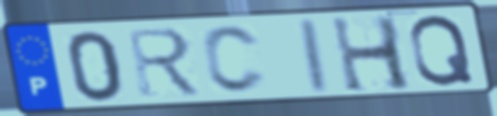0: (64, 28, 126, 104)
C: (199, 24, 270, 96)
H: (327, 14, 416, 95)
I: (300, 16, 334, 96)
Q: (406, 13, 477, 88)
R: (123, 26, 206, 99)
